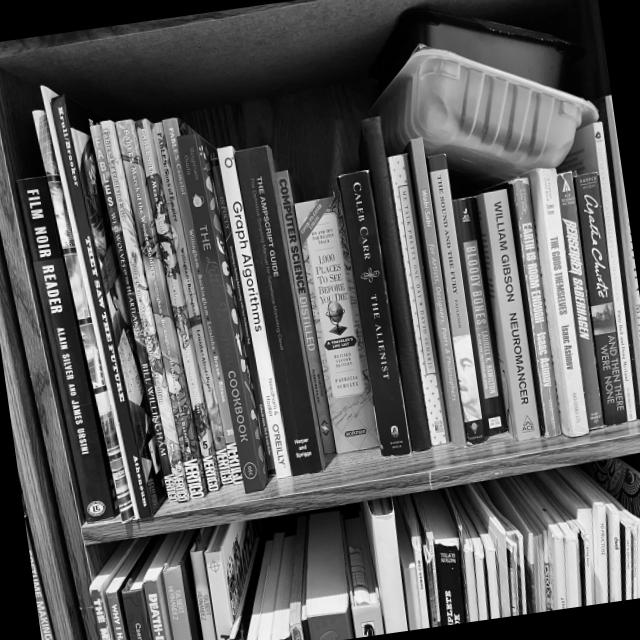book: (40, 78, 170, 522), (11, 174, 121, 524), (114, 118, 210, 498), (100, 119, 193, 504), (176, 129, 271, 496), (89, 123, 179, 502), (134, 118, 224, 493), (149, 121, 236, 485), (234, 144, 327, 478), (162, 116, 243, 487), (554, 122, 640, 426), (216, 145, 294, 480), (361, 116, 432, 452), (294, 196, 381, 455), (336, 170, 412, 459), (209, 157, 277, 476), (406, 137, 468, 450), (525, 166, 594, 439), (387, 153, 450, 446), (275, 169, 337, 455), (426, 154, 486, 446), (475, 189, 542, 443), (506, 176, 565, 439), (573, 172, 629, 427), (452, 196, 509, 437), (555, 172, 605, 430)
